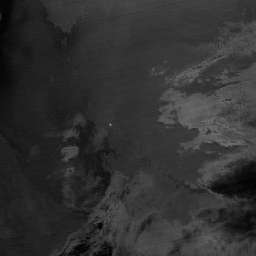Target: (107, 121, 112, 126)
